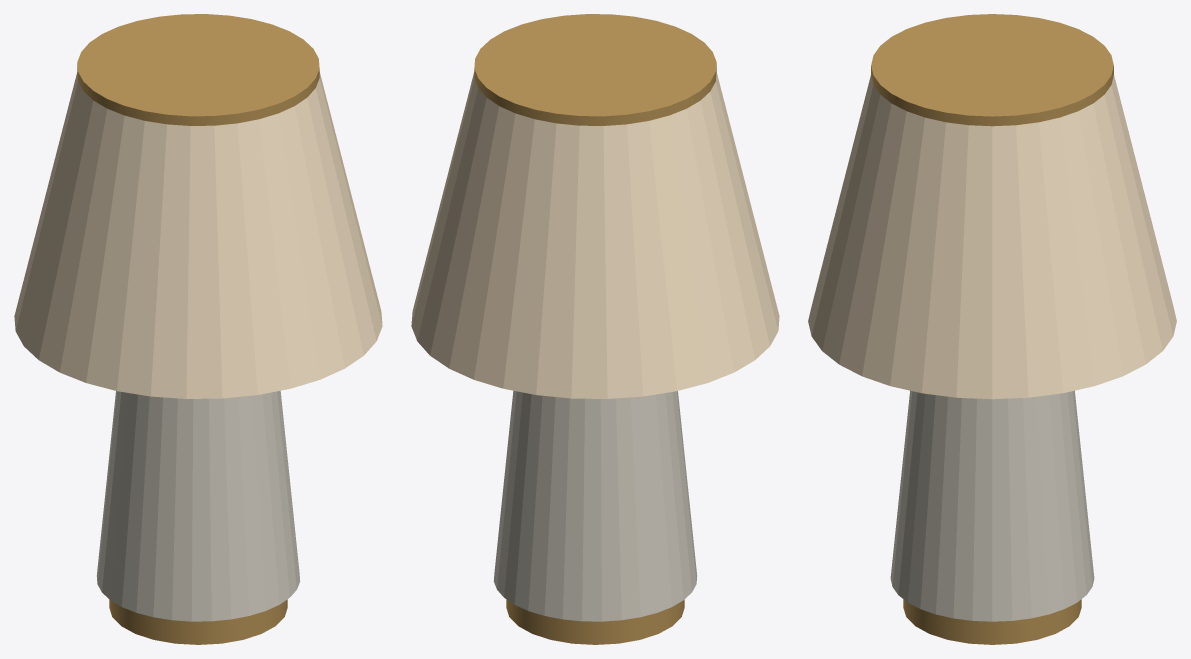
Rendered from side_lamp.glb.
The picture shows the model from 3 angles, left to right: view 1: azimuth 30°, elevation 25°; view 2: azimuth 150°, elevation 25°; view 3: azimuth 270°, elevation 25°; orthographic projection.
Parts seen in each view (by area): view 1: dining_side_lamp_004_side_shade, dining_side_lamp_002_ceramic_urn, dining_side_lamp_005_shade_top_ring, dining_side_lamp_001_brass_foot; view 2: dining_side_lamp_004_side_shade, dining_side_lamp_002_ceramic_urn, dining_side_lamp_005_shade_top_ring, dining_side_lamp_001_brass_foot; view 3: dining_side_lamp_004_side_shade, dining_side_lamp_002_ceramic_urn, dining_side_lamp_005_shade_top_ring, dining_side_lamp_001_brass_foot.
Part boxes in pixels (x1,y1,x2,y2): dining_side_lamp_004_side_shade: (14,72,382,398); dining_side_lamp_002_ceramic_urn: (96,390,300,621); dining_side_lamp_005_shade_top_ring: (77,14,319,125); dining_side_lamp_001_brass_foot: (109,599,287,644); dining_side_lamp_004_side_shade: (411,72,779,398); dining_side_lamp_002_ceramic_urn: (493,390,697,621); dining_side_lamp_005_shade_top_ring: (474,14,716,125); dining_side_lamp_001_brass_foot: (506,599,684,644); dining_side_lamp_004_side_shade: (808,75,1176,399); dining_side_lamp_002_ceramic_urn: (890,390,1094,621); dining_side_lamp_005_shade_top_ring: (871,14,1113,126); dining_side_lamp_001_brass_foot: (903,599,1081,644).
Bounding box in the file's own units: 0.38 × 0.616 × 0.38.
